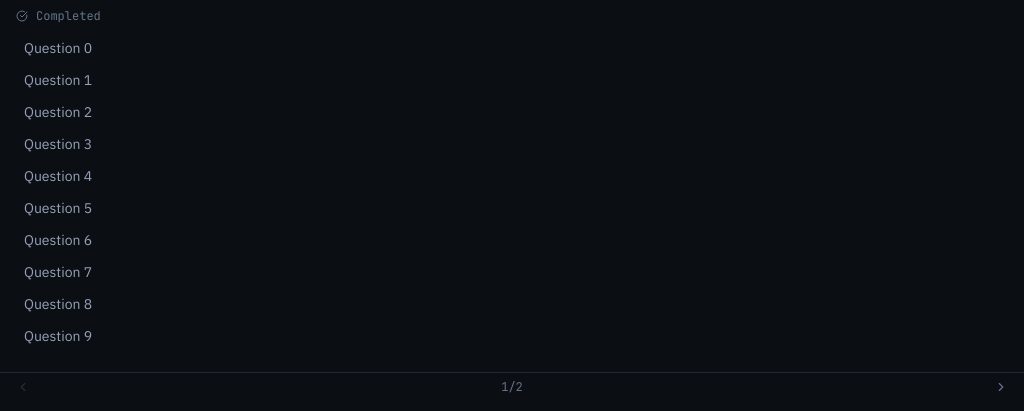
Test: PaginatedSection › disables prev on first page and next on last page
The width and height of the screenshot is (1024, 411).
Expected: the button named "Previous Completed page" is disabled, 16,380 -> 30,394
What coordinates should you click on to do the following:
click the button named "Next Completed page"
I would click on:
 (1001, 387)
Its box is 994,380 -> 1008,394.
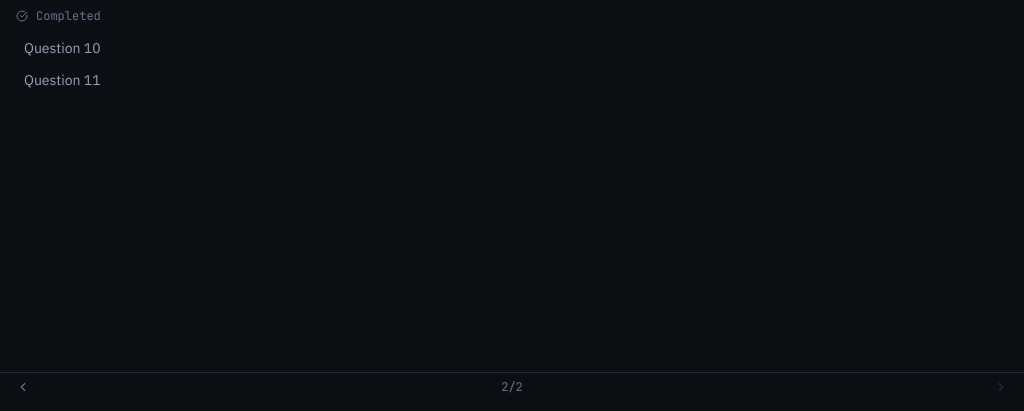
Expected: the button named "Next Completed page" is disabled, 994,380 -> 1008,394
